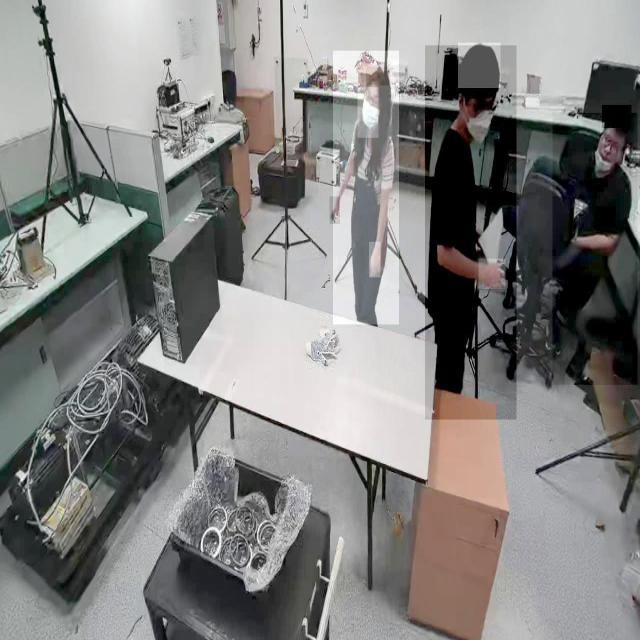face_mask: (468, 101, 498, 151), (358, 87, 378, 138)
hand_noglove: (478, 258, 506, 290), (369, 242, 381, 278), (330, 196, 340, 225)
head_nohelmet: (458, 43, 501, 89), (602, 105, 632, 129), (366, 67, 390, 86)
person: (425, 46, 517, 420), (552, 113, 638, 386), (333, 51, 399, 325)
